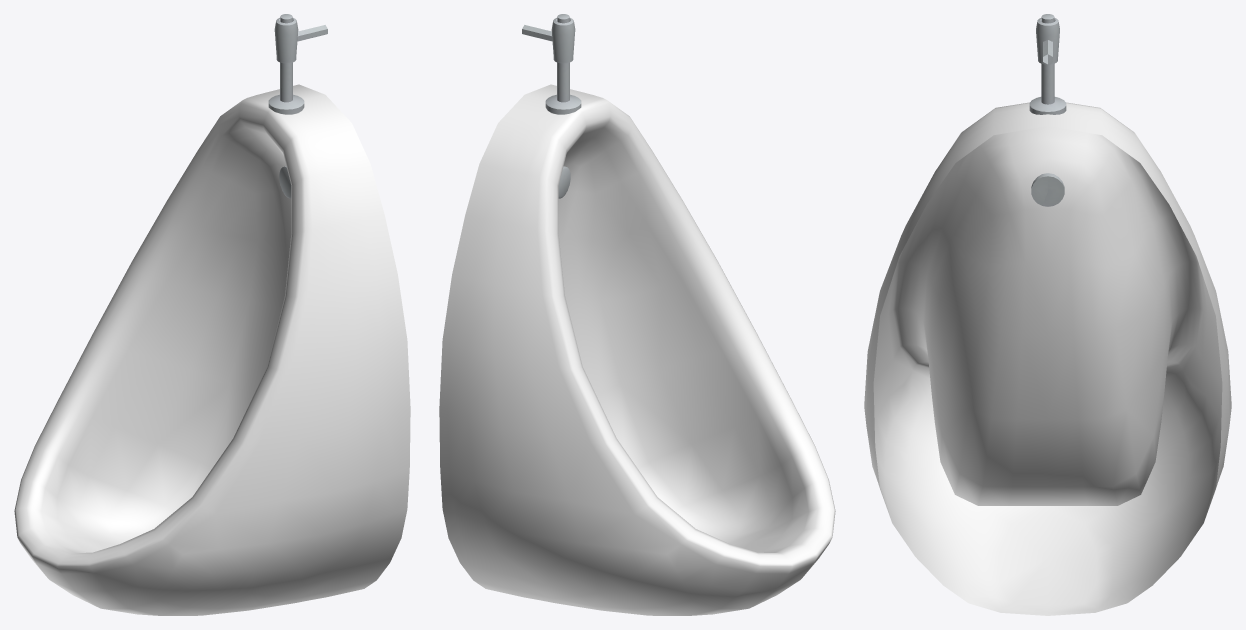
Rendered from Toilet01Urinal.FBX.
3 renders of one model, left to right at view 1: azimuth 30°, elevation 25°; view 2: azimuth 150°, elevation 25°; view 3: azimuth 270°, elevation 25°, orthographic. The views are drawn at different scales.
Parts seen in each view (by area): view 1: Toilet01Urinal; view 2: Toilet01Urinal; view 3: Toilet01Urinal.
Part boxes in pixels (x1,y1,x2,y2): Toilet01Urinal: (14,14,410,615); Toilet01Urinal: (439,14,835,615); Toilet01Urinal: (864,14,1231,615).
Size of the model in its own units: 13.85 by 25.58 by 14.68.
